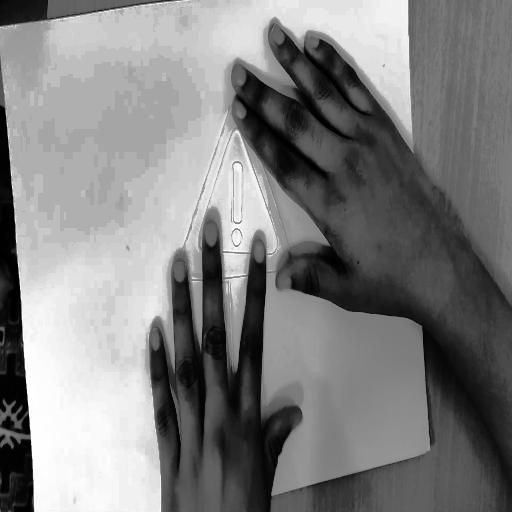bottom_right: (427, 440, 434, 457)
signboard: (165, 82, 320, 435)
